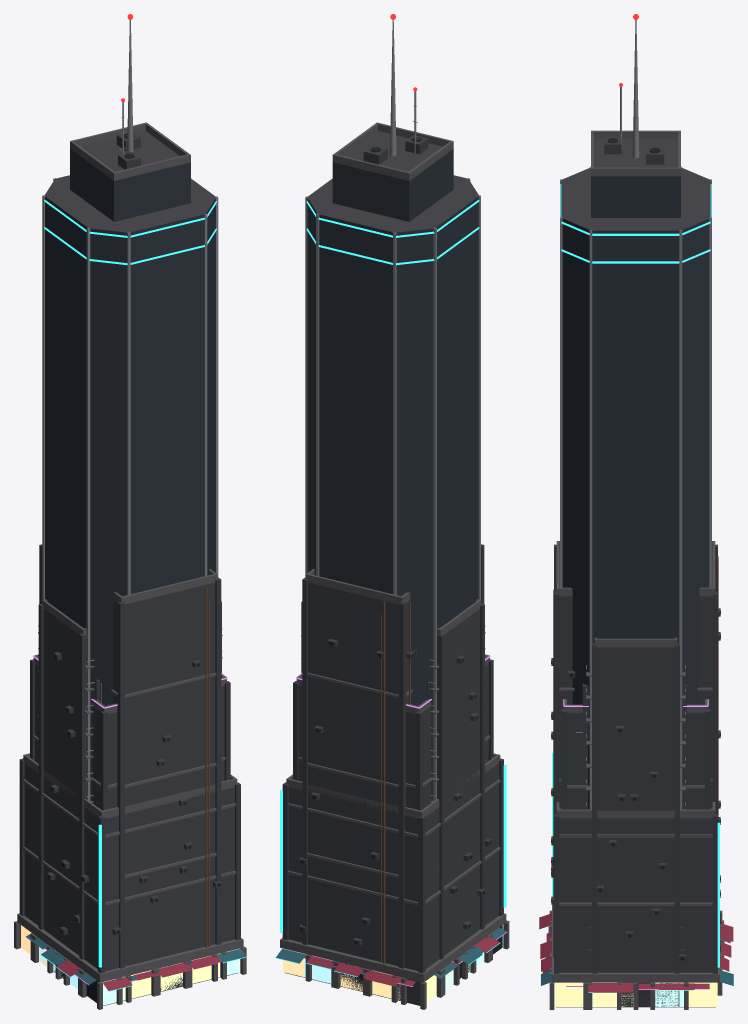
File: lumen-ward-far.glb
The picture shows the model from 3 angles, left to right: view 1: azimuth 30°, elevation 25°; view 2: azimuth 150°, elevation 25°; view 3: azimuth 270°, elevation 25°; orthographic projection.
Visible parts, largest first — view 1: tower_glass_a, tower_block_b, tower_setback_a, tower_slab_a, tower_block_a; view 2: tower_glass_a, tower_block_b, tower_setback_a, tower_slab_a, tower_block_a; view 3: tower_glass_a, tower_setback_a, tower_slab_a, tower_block_b, tower_block_a, tower_stack_b.
Part boxes in pixels (x1,y1,x2,y2): tower_glass_a: (14,14,246,1009); tower_block_b: (39,544,226,1004); tower_setback_a: (19,753,246,991); tower_slab_a: (33,599,222,995); tower_block_a: (30,654,230,984); tower_glass_a: (275,14,509,1009); tower_block_b: (299,544,484,1004); tower_setback_a: (280,753,510,973); tower_slab_a: (301,599,490,995); tower_block_a: (293,654,506,986); tower_glass_a: (549,14,733,1009); tower_setback_a: (539,752,720,986); tower_slab_a: (586,638,685,1009); tower_block_b: (540,541,733,974); tower_block_a: (548,699,724,989); tower_stack_b: (575,683,686,741).
Size of the model in its own units: 25.5 by 139 by 25.52.
